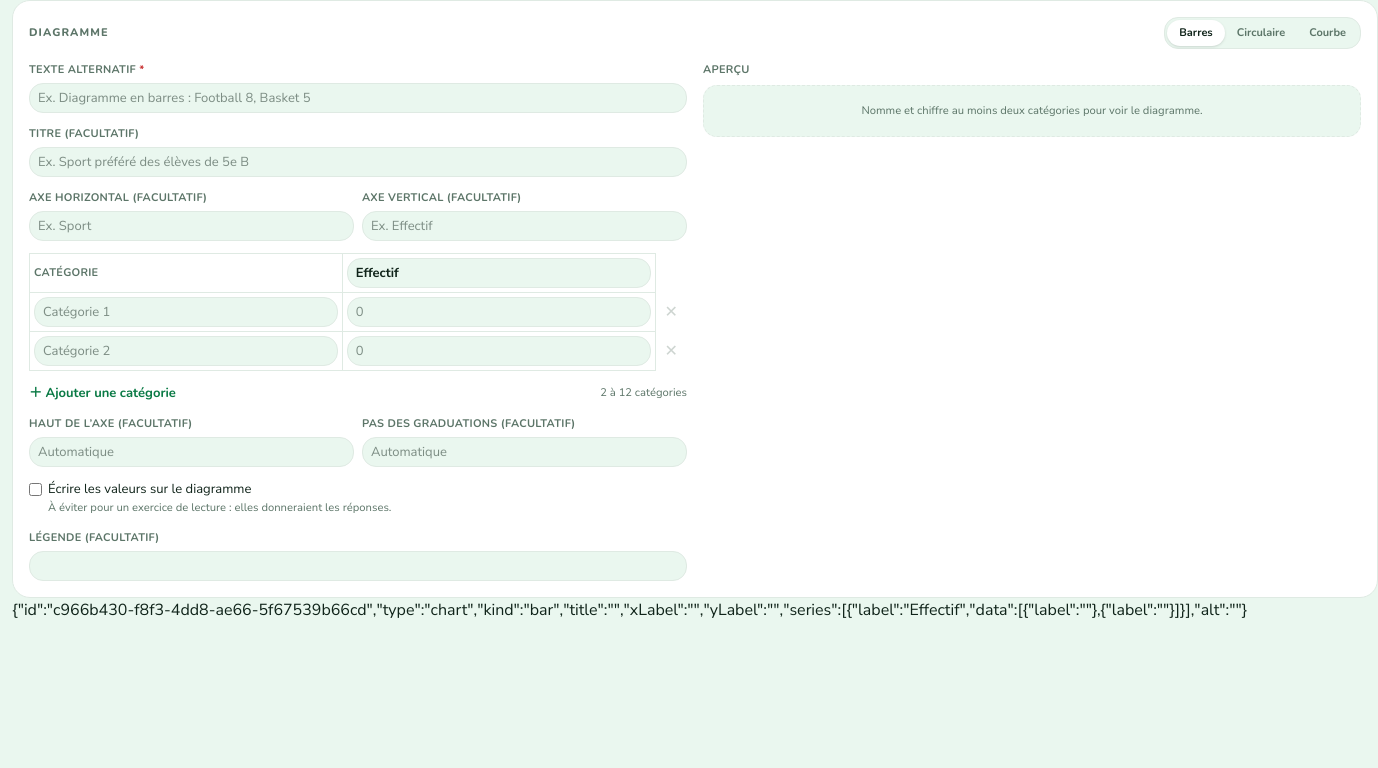
Scenario: GraphiqueEditeur — aperçu › should draw the chart with the student renderer once two categories are complete
Type "Football 8, Basket 5" into the field labelled "Texte alternatif *".
click(358, 98); type("Football 8, Basket 5")  # box [29,83,687,113]
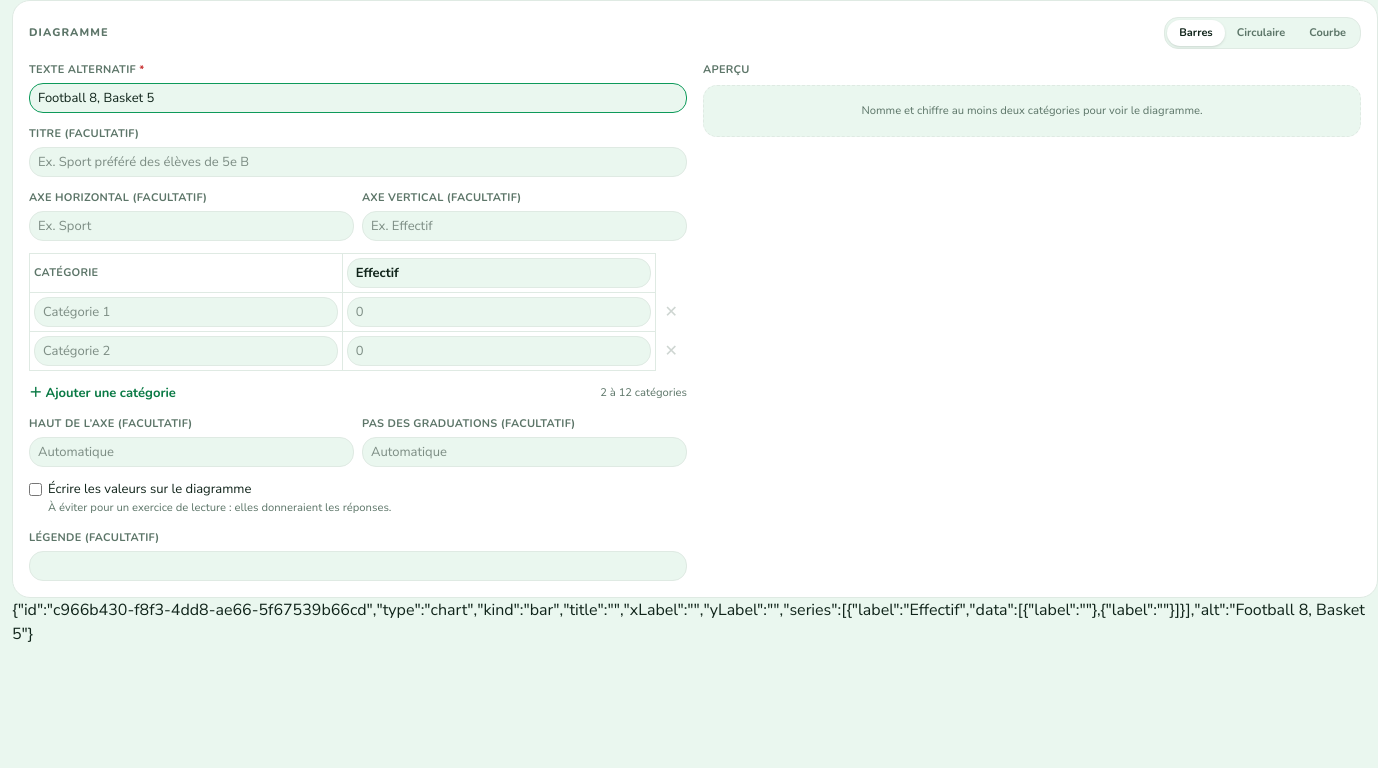
Type "Football" into the field labelled "Catégorie 1".
click(186, 312); type("Football")  # box [34,297,338,327]
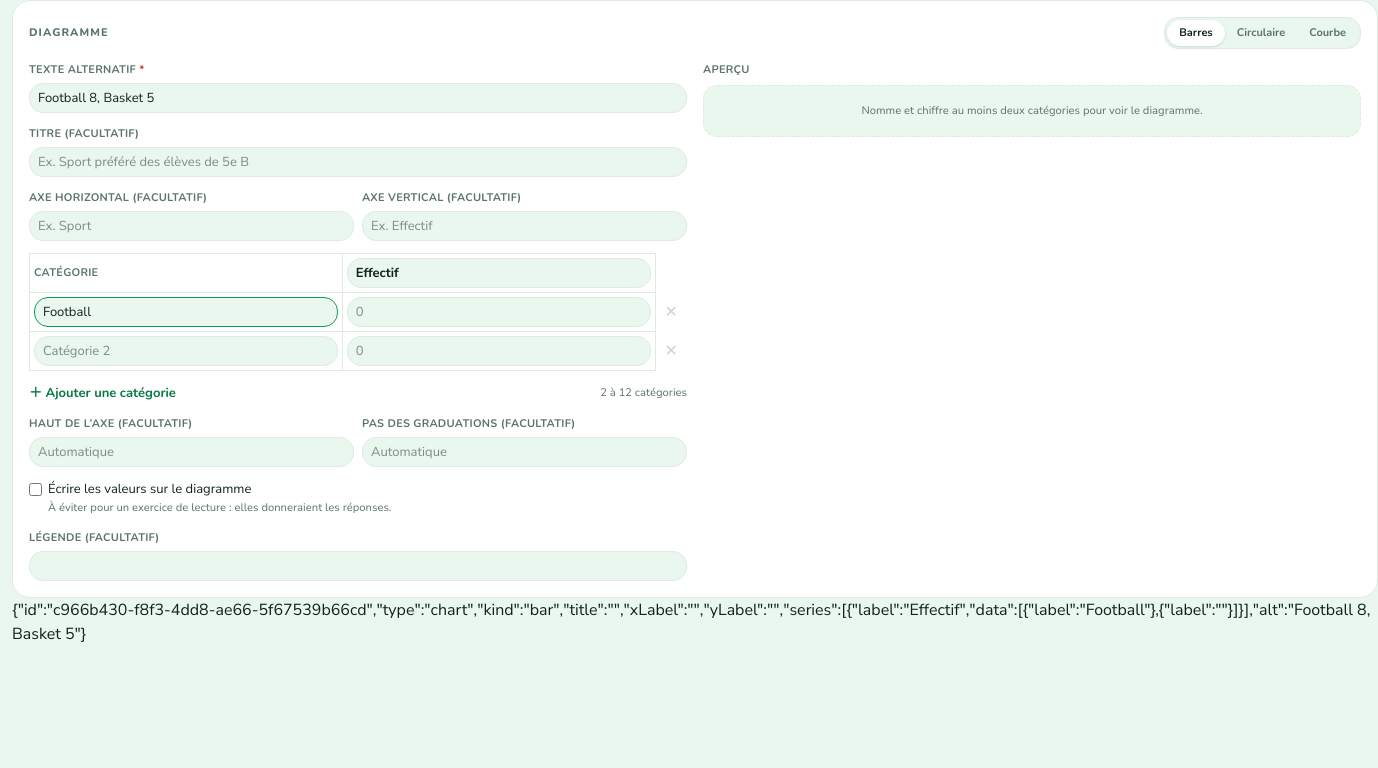
Type "8" into the number field named "Valeur 1".
click(499, 312); type("8")  # box [347,297,651,327]
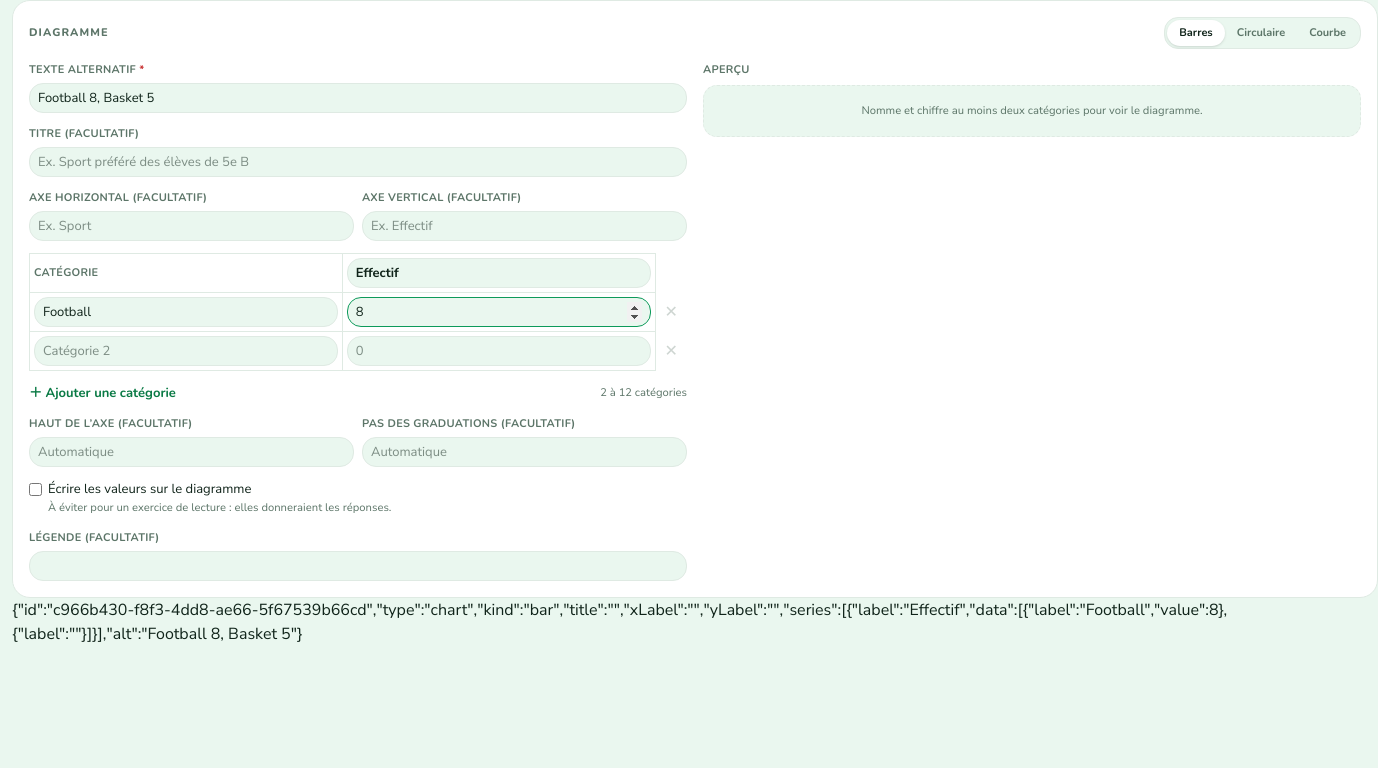
Type "Basket" into the field labelled "Catégorie 2".
click(186, 351); type("Basket")  # box [34,336,338,366]
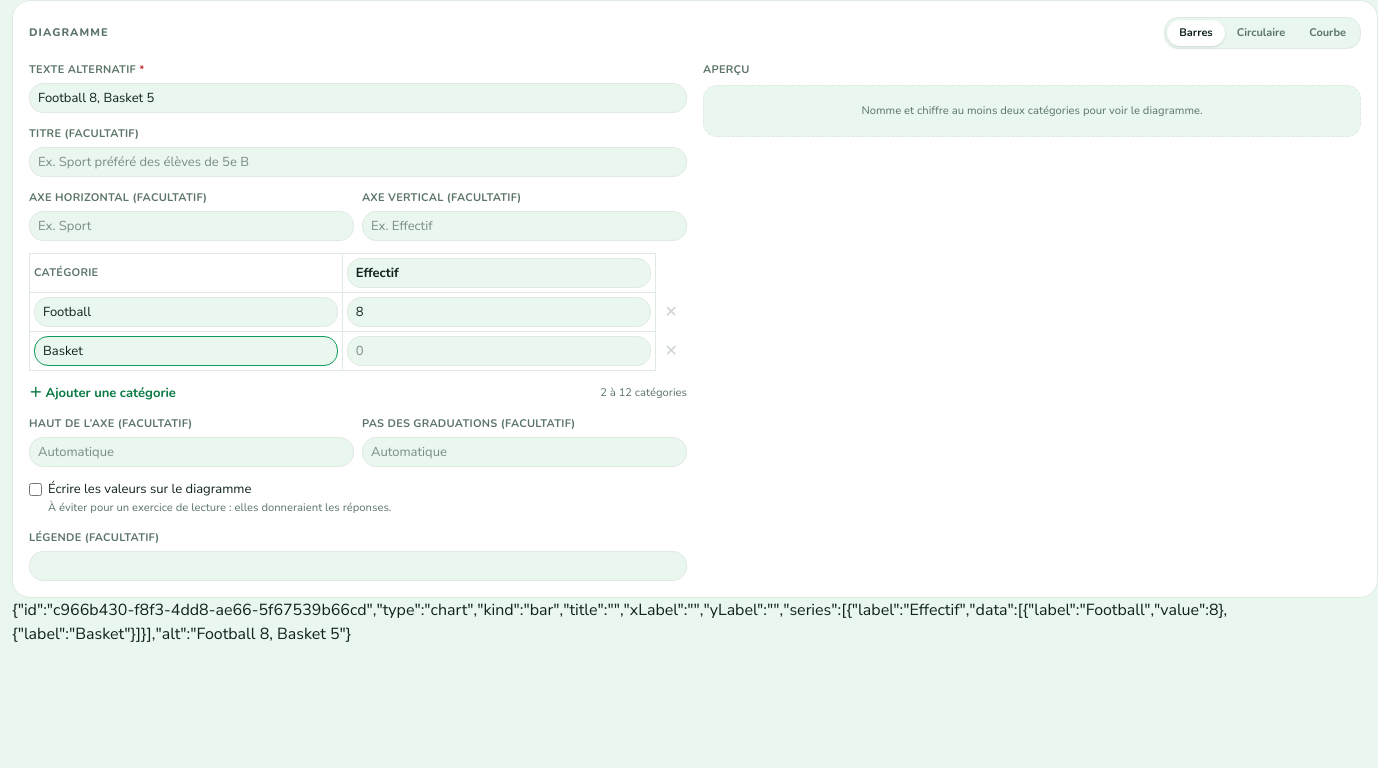
Type "5" into the number field named "Valeur 2".
click(499, 351); type("5")  # box [347,336,651,366]
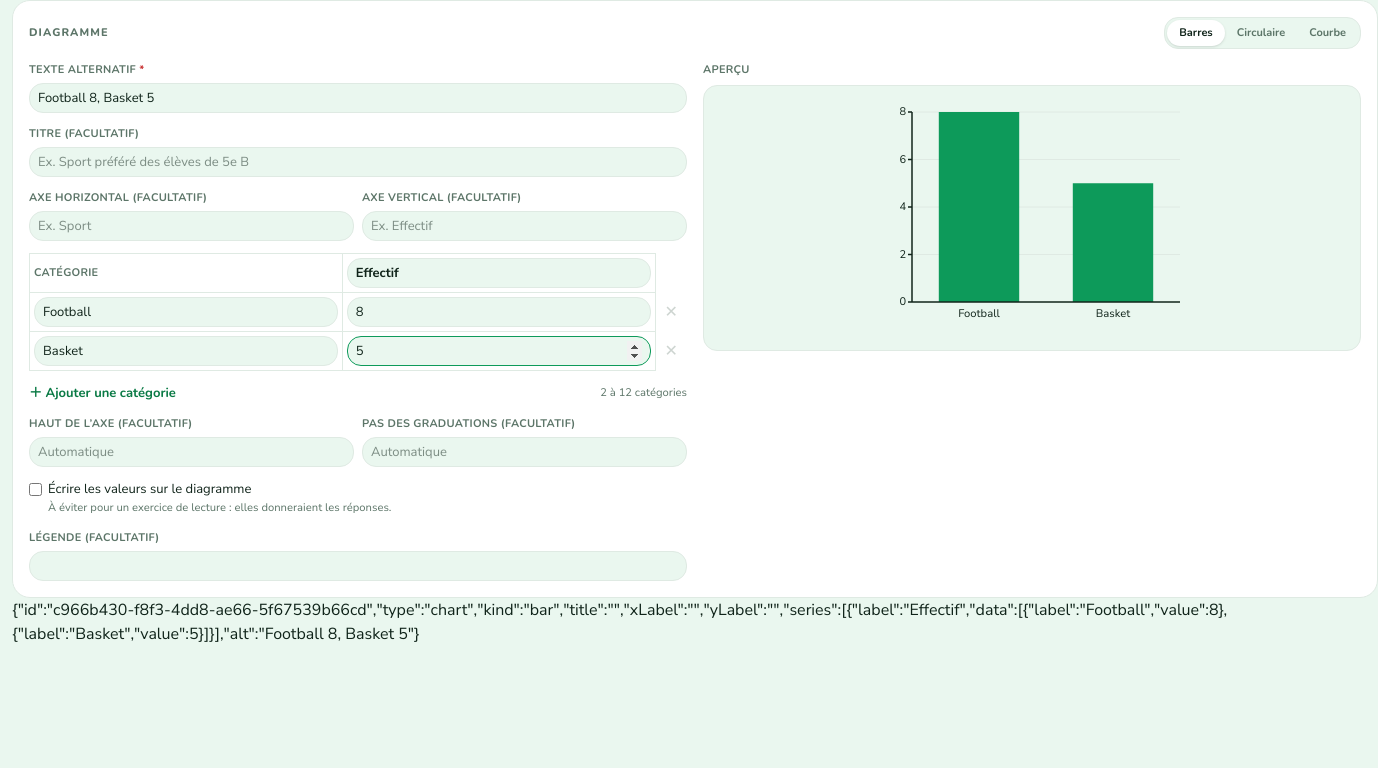
Expected: the picture named "Football 8, Basket 5" is shown, [872,98,1192,338]
